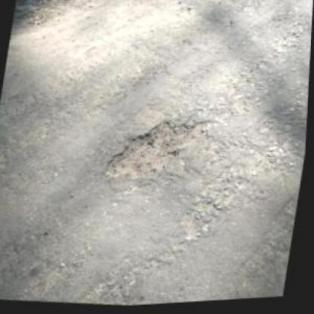Hueco: (102, 110, 213, 190)
